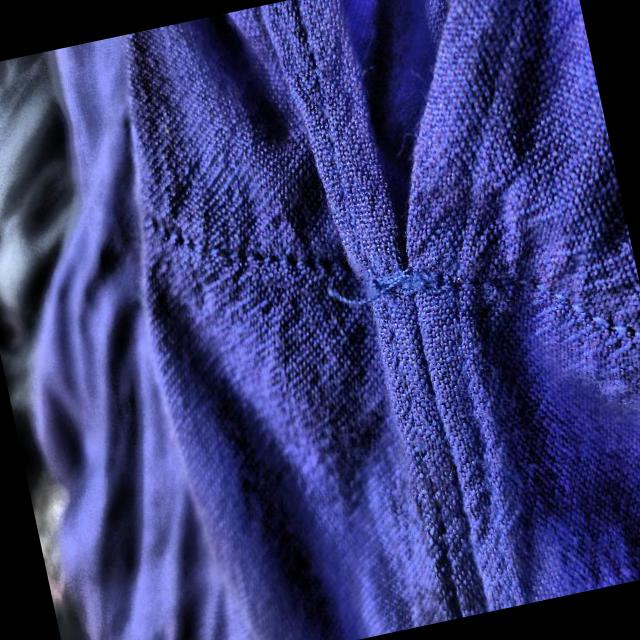gray stitch: (300, 215, 462, 352)
